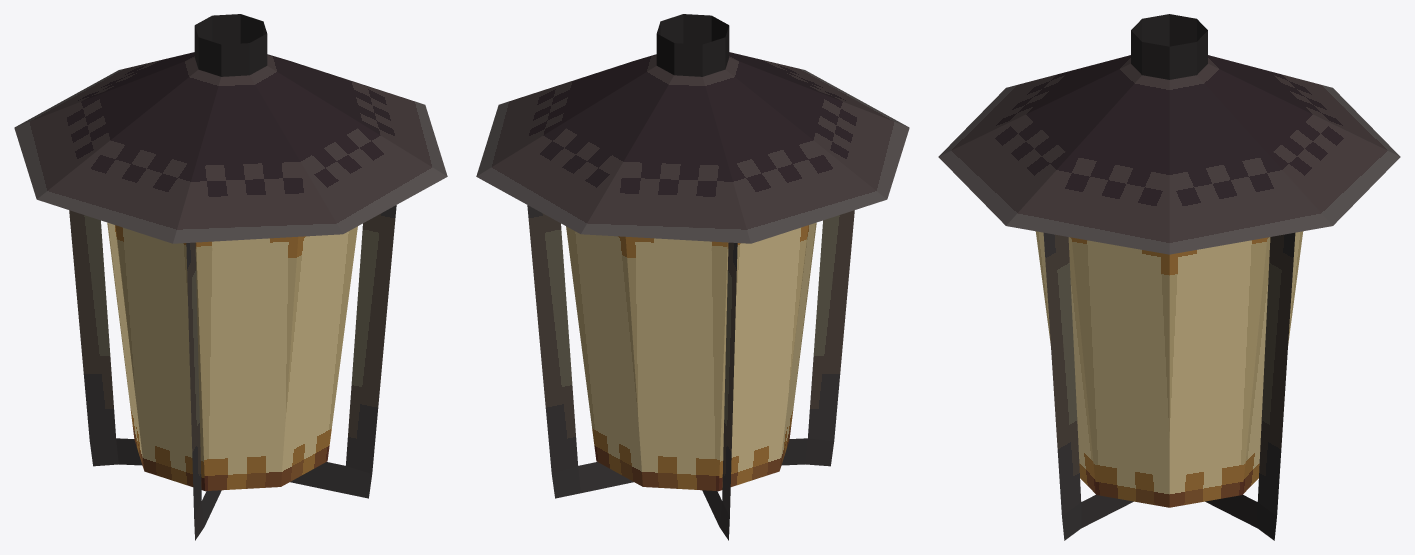
File: iron_lantern2.fbx
The picture shows the model from 3 angles, left to right: view 1: azimuth 30°, elevation 25°; view 2: azimuth 150°, elevation 25°; view 3: azimuth 270°, elevation 25°; orthographic projection. The views are drawn at different scales.
Parts seen in each view (by area): view 1: Cylinder; view 2: Cylinder; view 3: Cylinder.
Boxes of the visible parts, x1,y1,x2,y2 form: Cylinder: (14,14,447,540); Cylinder: (476,14,909,540); Cylinder: (938,14,1400,540).
Bounding box in the file's own units: 252 × 281 × 252.
